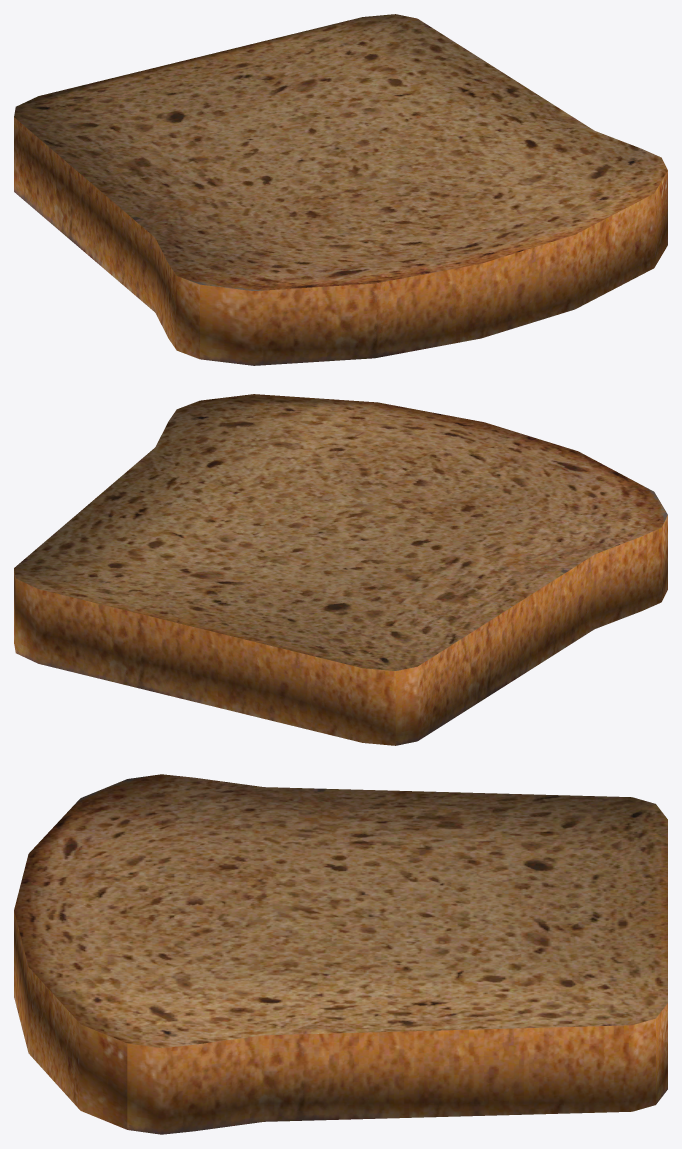
File: BrødSkive.glb
3 renders of one model, top to bottom at view 1: azimuth 30°, elevation 25°; view 2: azimuth 150°, elevation 25°; view 3: azimuth 270°, elevation 25°, orthographic. The views are drawn at different scales.
Parts seen in each view (by area): view 1: BrødSkive; view 2: BrødSkive; view 3: BrødSkive.
Boxes of the visible parts, x1,y1,x2,y2 form: BrødSkive: [14, 14, 667, 365]; BrødSkive: [14, 394, 667, 745]; BrødSkive: [14, 774, 667, 1134].
Size of the model in its own units: 1.06 by 0.1562 by 1.07.
Materials: 1 (1 with a texture image).
